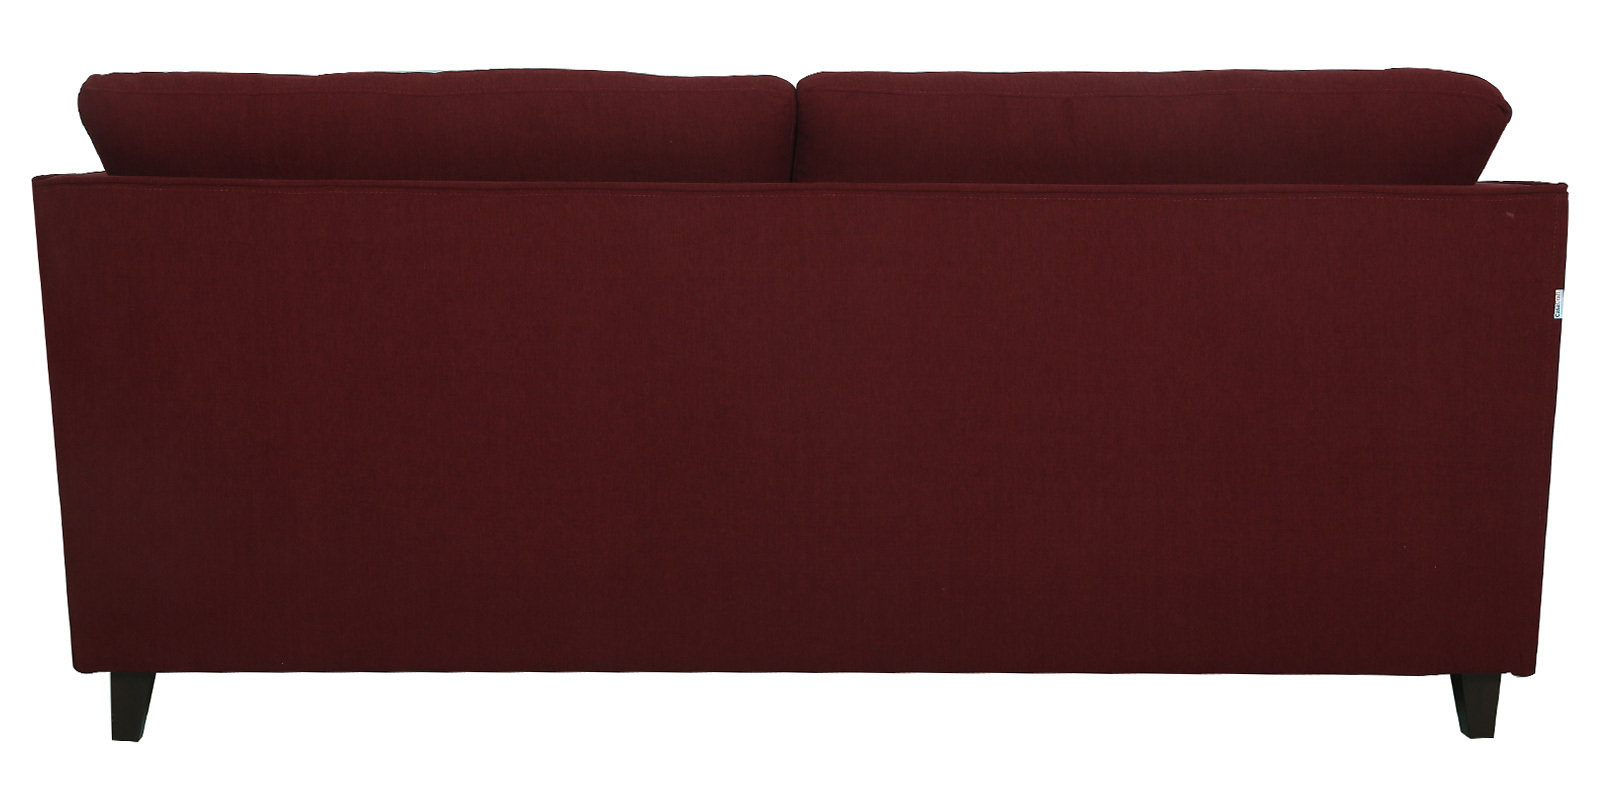Miranda Three Seater Sofa in Garnet Red Colour by CasaCraft: (24, 67, 1576, 744)
